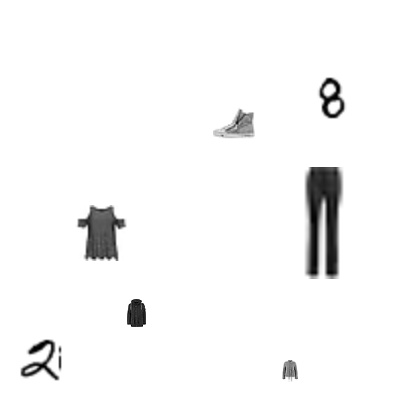2: (13, 332, 69, 388)
8: (302, 70, 358, 126)
Coat: (122, 299, 150, 327), (279, 360, 301, 382)
Sneaker: (213, 102, 255, 144)
T-shirt/top: (72, 205, 128, 261)
Trouser: (266, 167, 378, 279)
